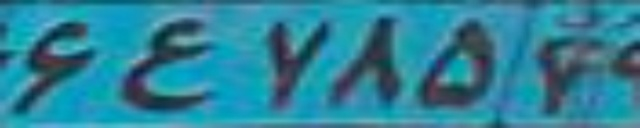5: (417, 20, 504, 107)
6: (15, 19, 98, 114)
7: (264, 18, 327, 109), (529, 38, 600, 115)
8: (328, 17, 405, 108)
9: (614, 42, 638, 116)
ain: (121, 16, 218, 112)
